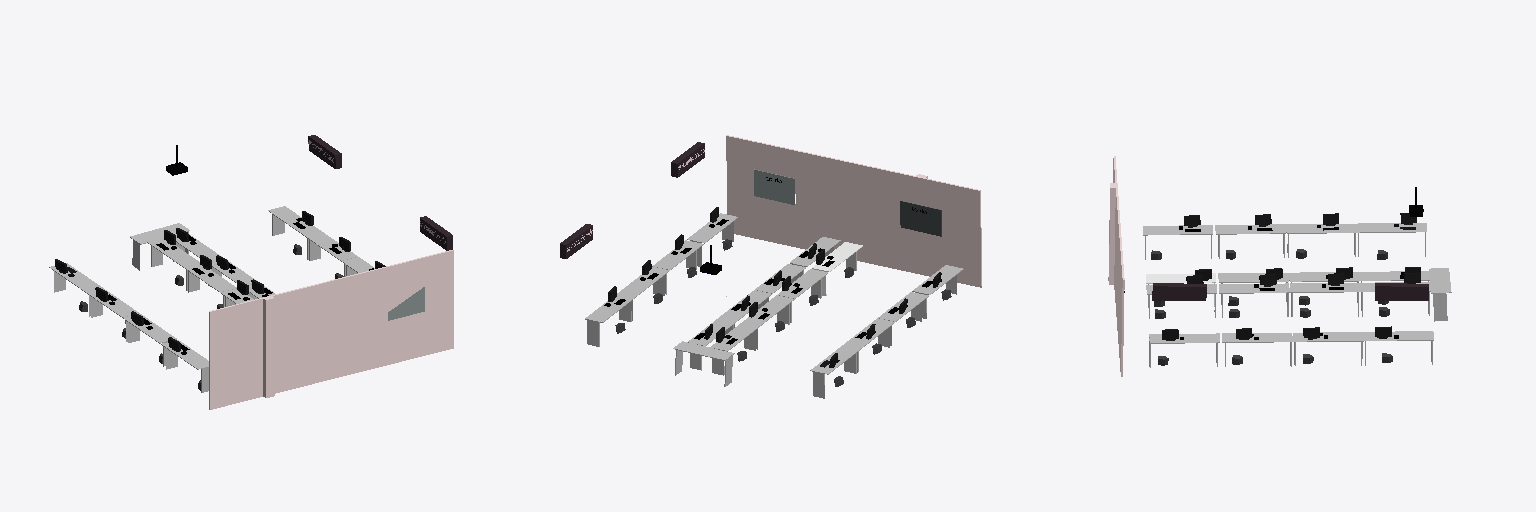
3 views of the same model, side by side, from view 1: azimuth 30°, elevation 25°; view 2: azimuth 150°, elevation 25°; view 3: azimuth 270°, elevation 25° (orthographic).
Parts seen in each view (by area): view 1: Cube.001, Cube.000_Cube.000, Cube.019_Cube.021, Cube.018_Cube.019, Cube.083_Cube.017_Cube.083_Cube.018_mesa_7, Cube.083_Cube.018_Cube.083_Cube.019_mesa_8; view 2: Cube.001, Cube.000_Cube.001, Cube.000_Cube.000, Cube.018_Cube.019, Cube.019_Cube.021, Cube.083_Cube.019_Cube.083_Cube.020_mesa_5, Cube.083_Cube.018_Cube.083_Cube.019_mesa_8, Cube.083_Cube.004_mesa_13, Cube.083_Cube.016_Cube.083_Cube.017_mesa_6, Cube.083_Cube.011_Cube.083_Cube.012, Cube.083_Cube.017_Cube.083_Cube.018_mesa_7, Cube.083_Cube.008_Cube.083_Cube.009 (+2 smaller); view 3: Cube.001, Cube.018_Cube.019, Cube.019_Cube.021, 2006_Cube.083_Cube.006_Cube.083_Cube.007_mesa_1, 2012_Cube.083_Cube.005_Cube.083_Cube.006_mesa_2, 2013.001_Cube.083_Cube.002_Cube.083_Cube.005_mesa_3, Cube.083_Cube.013_Cube.083_Cube.014_mesa_10, 2019_Cube.083_Cube.007_Cube.083_Cube.008_mesa_4, Cube.083_Cube.012_Cube.083_Cube.013_mesa_11, Cube.083_Cube.008_Cube.083_Cube.009, Cube.083_Cube.009_Cube.083_Cube.010, Cube.083_Cube.011_Cube.083_Cube.012 (+1 smaller).
Part boxes in pixels (left/top/right/bottom): Cube.001: left=209, top=250, right=453, bottom=409; Cube.000_Cube.000: left=388, top=287, right=424, bottom=320; Cube.019_Cube.021: left=308, top=135, right=341, bottom=168; Cube.018_Cube.019: left=420, top=216, right=452, bottom=250; Cube.083_Cube.017_Cube.083_Cube.018_mesa_7: left=183, top=263, right=236, bottom=291; Cube.083_Cube.018_Cube.083_Cube.019_mesa_8: left=147, top=238, right=199, bottom=266; Cube.001: left=726, top=135, right=981, bottom=287; Cube.000_Cube.001: left=900, top=201, right=941, bottom=236; Cube.000_Cube.000: left=754, top=169, right=794, bottom=204; Cube.018_Cube.019: left=671, top=142, right=704, bottom=177; Cube.019_Cube.021: left=560, top=224, right=592, bottom=258; Cube.083_Cube.019_Cube.083_Cube.020_mesa_5: left=812, top=242, right=862, bottom=271; Cube.083_Cube.018_Cube.083_Cube.019_mesa_8: left=710, top=321, right=760, bottom=351; Cube.083_Cube.004_mesa_13: left=585, top=293, right=635, bottom=322; Cube.083_Cube.016_Cube.083_Cube.017_mesa_6: left=778, top=269, right=827, bottom=298; Cube.083_Cube.011_Cube.083_Cube.012: left=687, top=213, right=737, bottom=243; Cube.083_Cube.017_Cube.083_Cube.018_mesa_7: left=744, top=295, right=794, bottom=325; Cube.083_Cube.008_Cube.083_Cube.009: left=652, top=240, right=703, bottom=269; Cube.001: left=1108, top=156, right=1124, bottom=376; Cube.018_Cube.019: left=1152, top=283, right=1206, bottom=300; Cube.019_Cube.021: left=1375, top=283, right=1428, bottom=300; 2006_Cube.083_Cube.006_Cube.083_Cube.007_mesa_1: left=1356, top=223, right=1426, bottom=232; 2012_Cube.083_Cube.005_Cube.083_Cube.006_mesa_2: left=1286, top=224, right=1356, bottom=233; 2013.001_Cube.083_Cube.002_Cube.083_Cube.005_mesa_3: left=1215, top=224, right=1285, bottom=234; Cube.083_Cube.013_Cube.083_Cube.014_mesa_10: left=1290, top=283, right=1360, bottom=292; 2019_Cube.083_Cube.007_Cube.083_Cube.008_mesa_4: left=1143, top=225, right=1212, bottom=235; Cube.083_Cube.012_Cube.083_Cube.013_mesa_11: left=1219, top=283, right=1289, bottom=293; Cube.083_Cube.008_Cube.083_Cube.009: left=1222, top=333, right=1292, bottom=342; Cube.083_Cube.009_Cube.083_Cube.010: left=1293, top=332, right=1363, bottom=341; Cube.083_Cube.011_Cube.083_Cube.012: left=1149, top=333, right=1219, bottom=343.
Bounding box in the file's own units: 39.39 × 17.8 × 43.8.